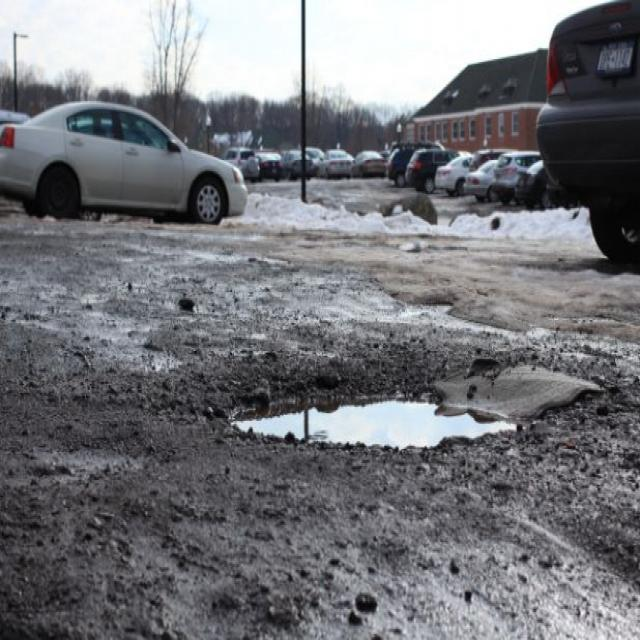Pothole: (218, 380, 522, 450)
